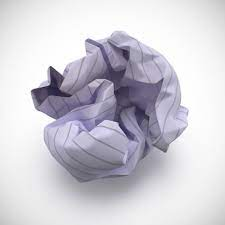crumpled paper: (34, 29, 202, 191)
